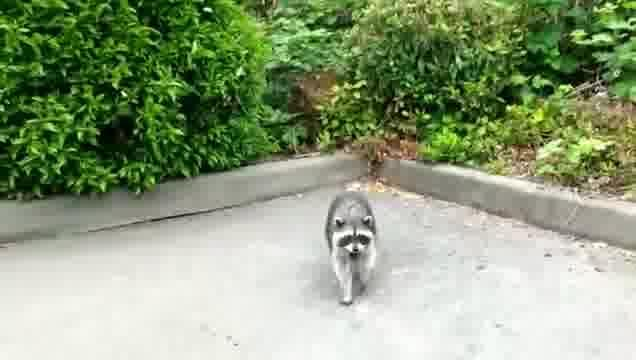raccoon: (321, 190, 381, 306)
